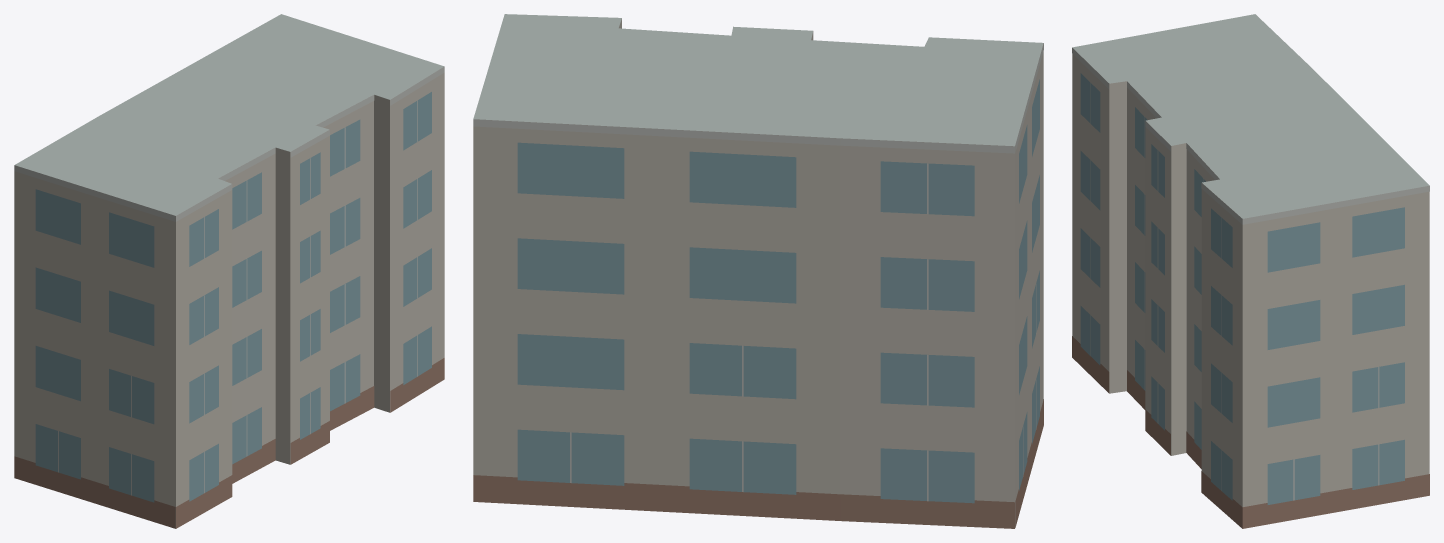
Rendered from survey-upis-32699381.glb.
3 renders of one model, left to right at view 1: azimuth 30°, elevation 25°; view 2: azimuth 150°, elevation 25°; view 3: azimuth 270°, elevation 25°, orthographic. The views are drawn at different scales.
Visible parts, largest first — view 1: survey-upis-32699381.tmp; view 2: survey-upis-32699381.tmp; view 3: survey-upis-32699381.tmp.
Boxes of the visible parts, x1,y1,x2,y2 form: survey-upis-32699381.tmp: (14, 14, 444, 528); survey-upis-32699381.tmp: (473, 14, 1043, 528); survey-upis-32699381.tmp: (1072, 14, 1429, 528).
Bounding box in the file's own units: 18.01 × 12.7 × 13.29.
